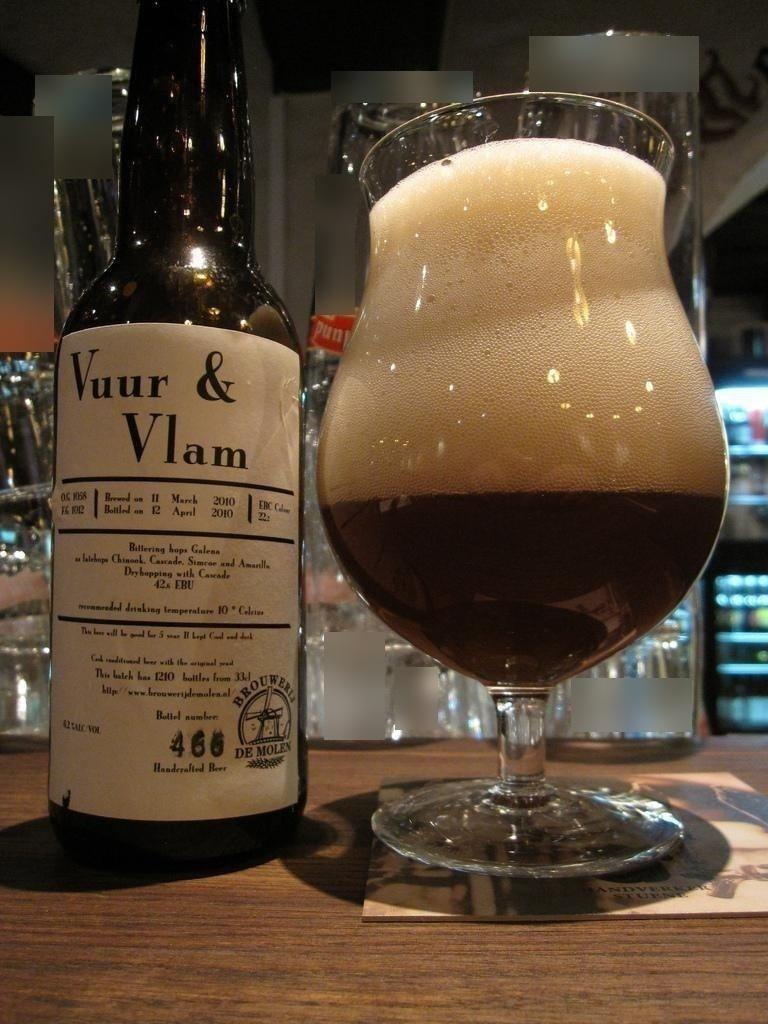bottle-glass: (42, 1, 298, 842)
glass-wine: (311, 84, 729, 881)
